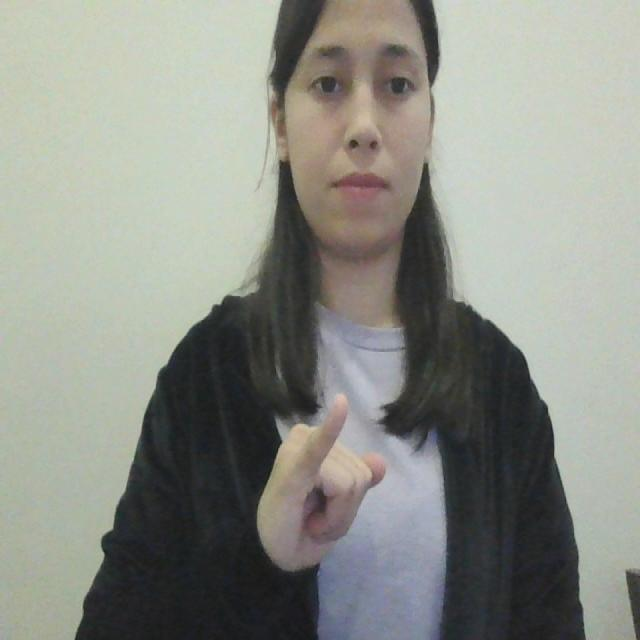kotu: (253, 386, 395, 585)
